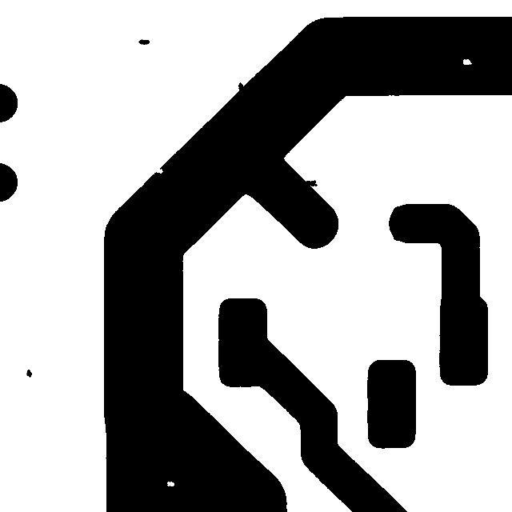copper: (131, 32, 156, 51), (19, 362, 38, 384)
mousebite: (142, 162, 170, 180)
pin-hole: (456, 52, 478, 71), (160, 474, 181, 493)
spur: (296, 173, 324, 193), (231, 75, 250, 104)
